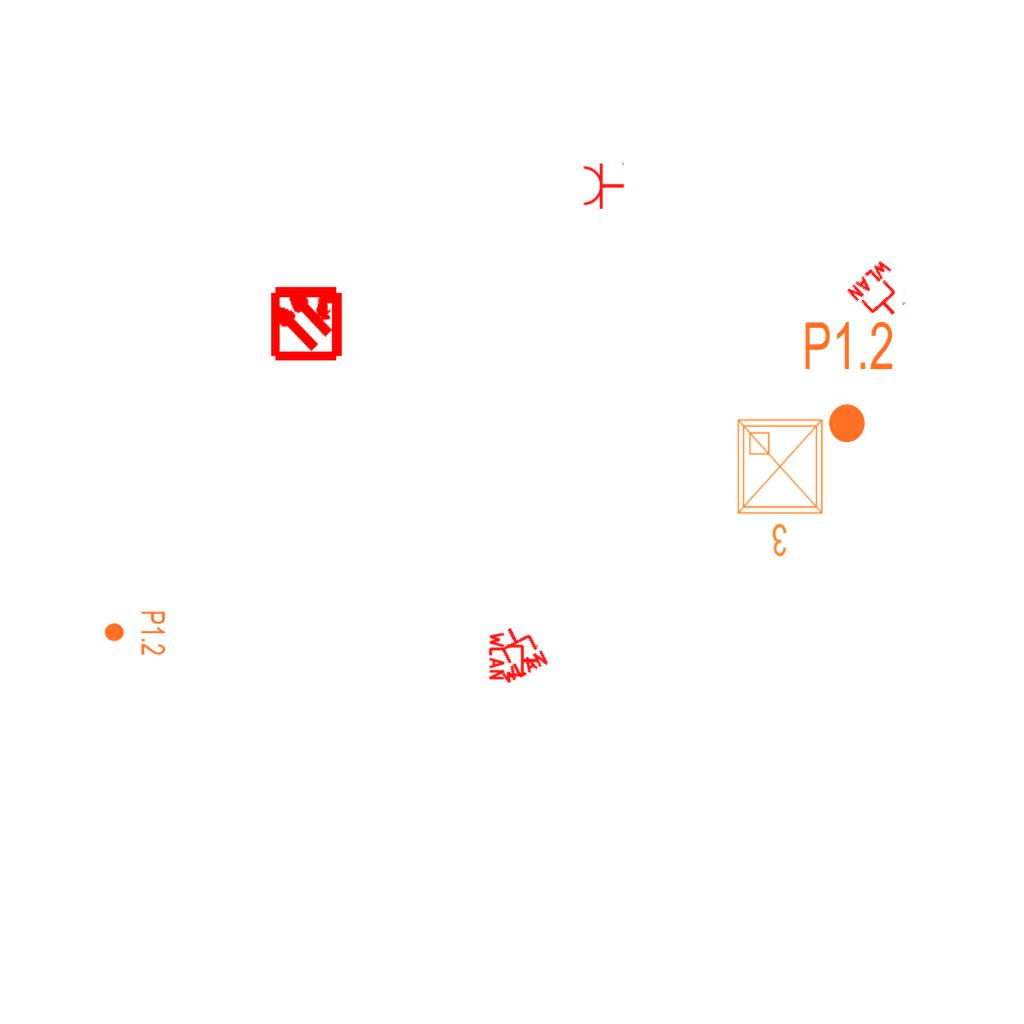Downlight_LED_Einbauleuchten_Flur: (802, 318, 895, 446), (103, 610, 167, 656)
Einbaudownlights_LED_Konferenzraeume: (730, 412, 834, 562)
OT_Multisensormelder_(Kombination_RMO_WMD): (250, 265, 363, 378)
Schukosteckdose_einfach: (582, 160, 625, 210)
WLAN: (844, 256, 918, 330), (481, 617, 551, 687), (488, 630, 540, 682)
